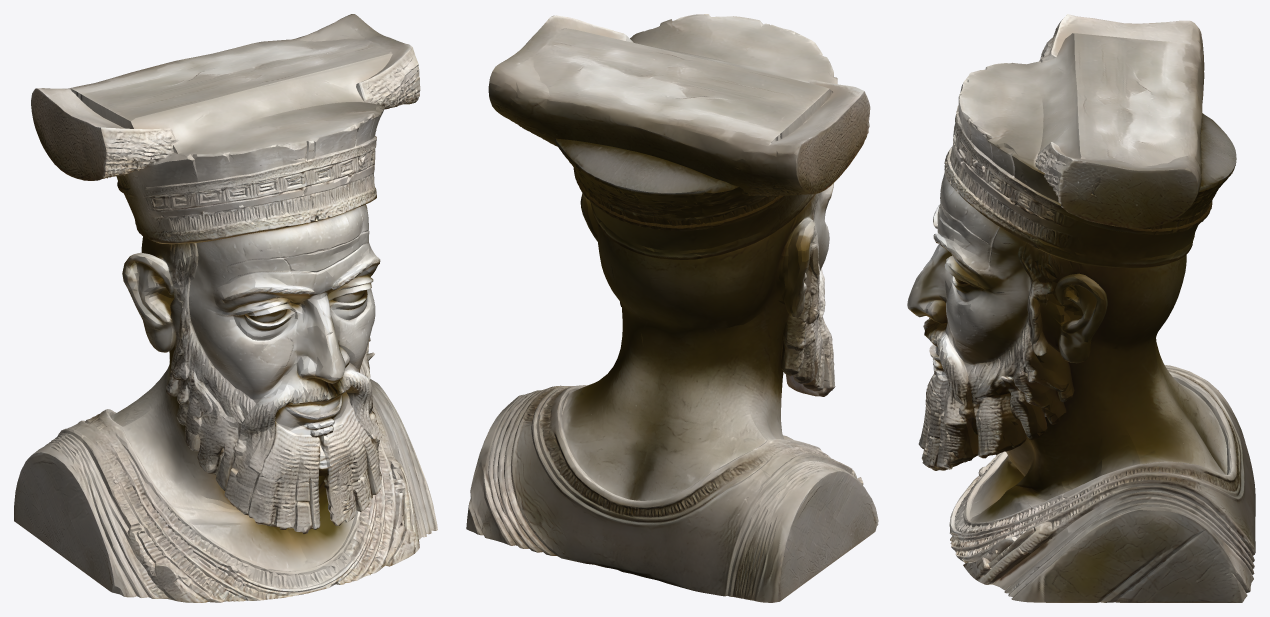
Rendered from lamassu_head_rodin_source.glb.
3 renders of one model, left to right at view 1: azimuth 30°, elevation 25°; view 2: azimuth 150°, elevation 25°; view 3: azimuth 270°, elevation 25°, orthographic. The views are drawn at different scales.
Visible parts, largest first — view 1: model; view 2: model; view 3: model.
Boxes of the visible parts, left/top/right/bottom form: model: left=14, top=14, right=437, bottom=602; model: left=466, top=14, right=878, bottom=602; model: left=907, top=14, right=1255, bottom=602.
Size of the model in its own units: 1.37 by 1.9 by 1.35.
1 material, 1 textured.
